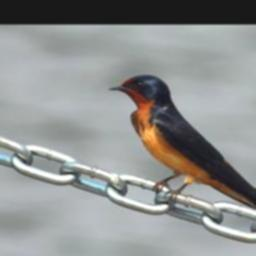Swallow: (106, 74, 256, 220)
